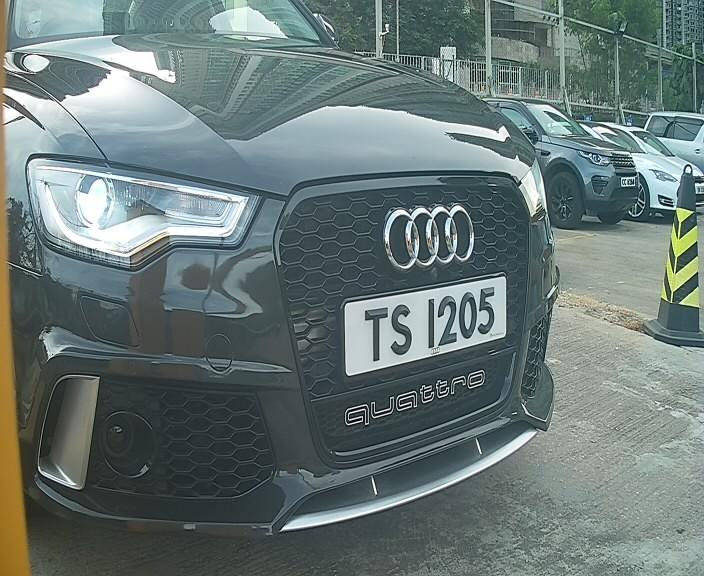privatecar: (5, 1, 573, 558)
